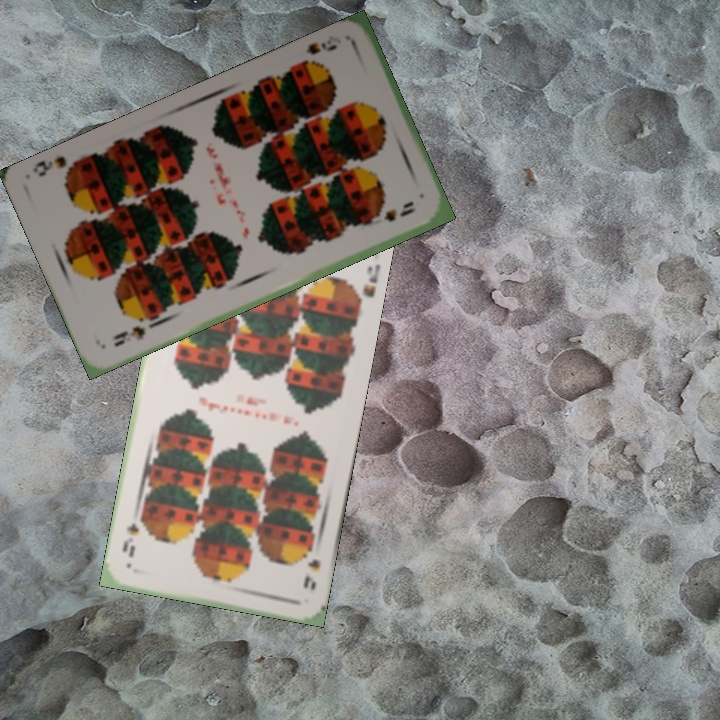S9: (110, 315, 157, 350), (294, 38, 340, 72), (299, 539, 323, 594)
